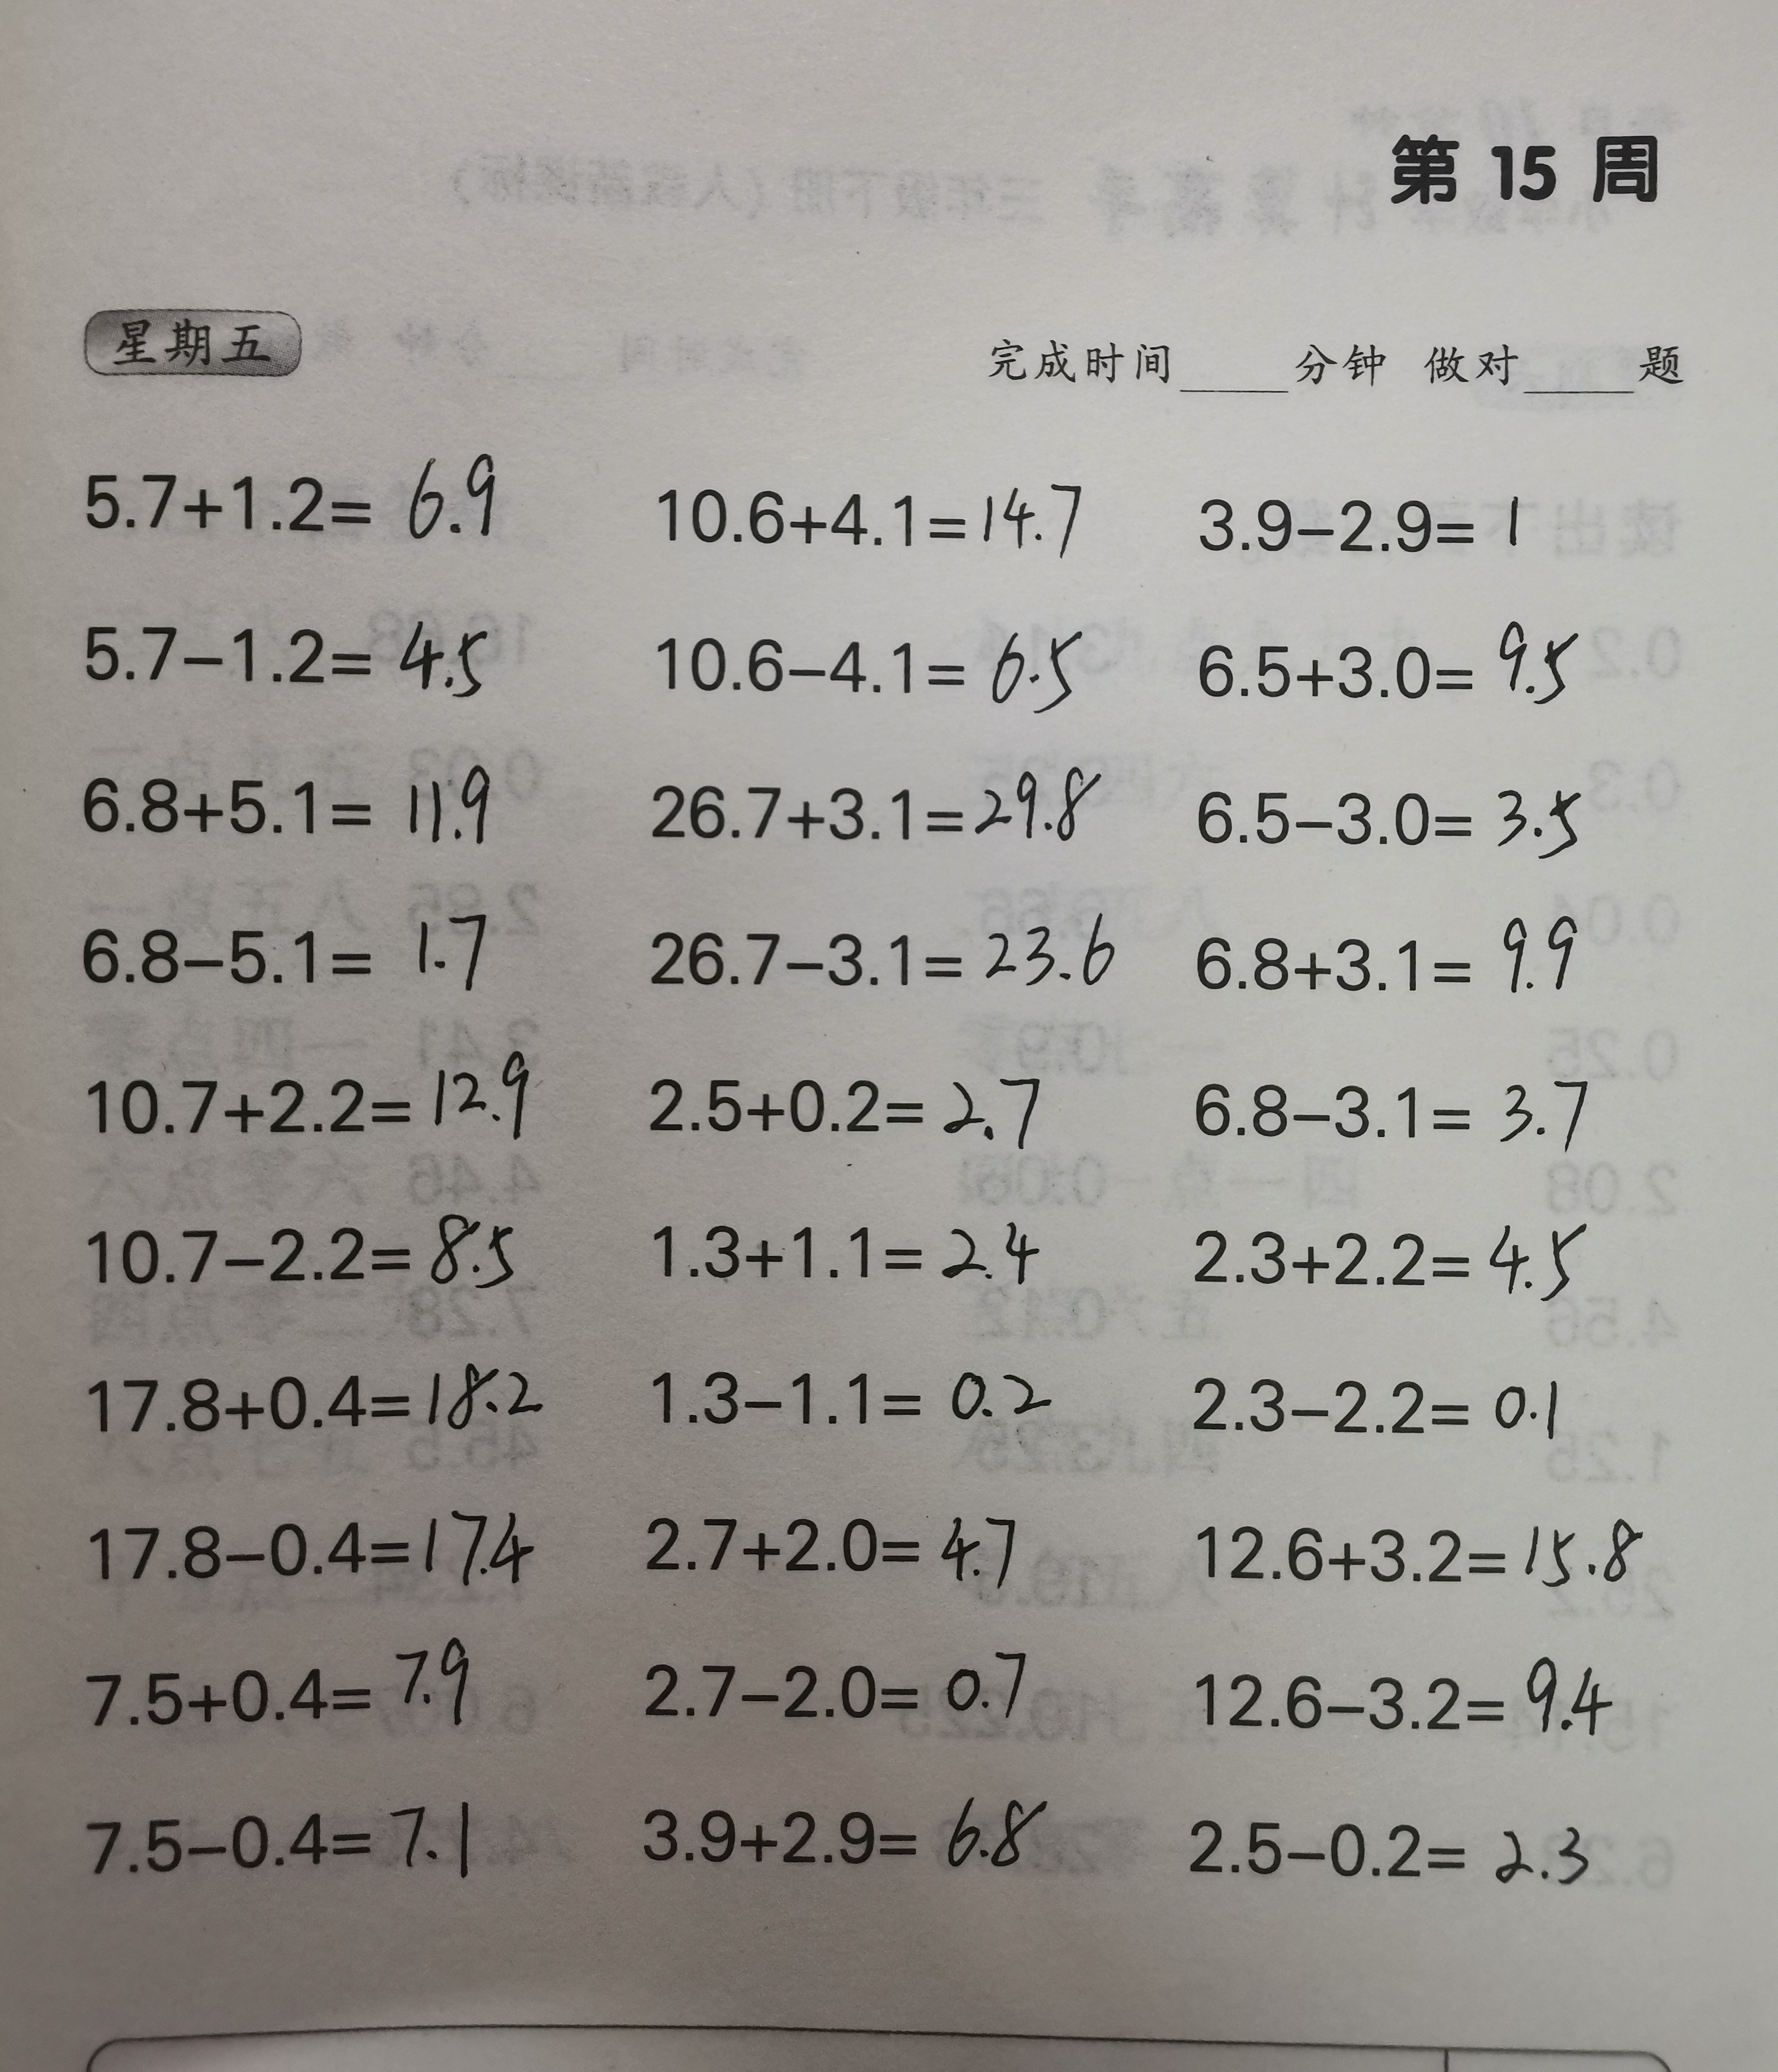equation: (65, 421, 520, 555), (62, 1036, 539, 1154), (70, 1482, 550, 1598), (69, 583, 520, 707), (76, 1626, 504, 1751), (640, 611, 1107, 724), (641, 446, 1093, 562), (638, 751, 1110, 862), (65, 886, 525, 999), (1165, 1195, 1596, 1313), (78, 1781, 507, 1899), (65, 1202, 532, 1307), (1182, 1501, 1667, 1602), (629, 895, 1115, 994), (629, 1780, 1075, 1885), (624, 1045, 1054, 1154), (1182, 608, 1596, 721), (1163, 1794, 1618, 1894), (65, 1348, 552, 1441), (62, 749, 504, 851), (1181, 1647, 1639, 1744), (638, 1336, 1063, 1439), (1186, 895, 1589, 1003), (1181, 759, 1602, 862), (629, 1487, 1034, 1593), (641, 1196, 1066, 1295), (1181, 1348, 1568, 1455), (1184, 1054, 1604, 1149), (633, 1637, 1047, 1732), (1181, 483, 1545, 574)
